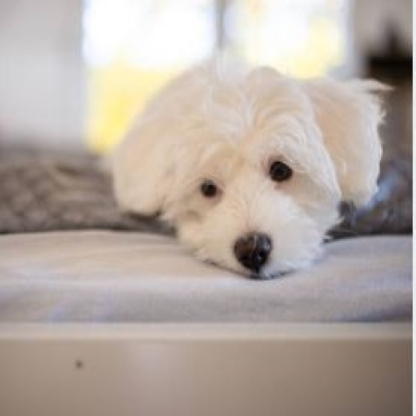maltese: (108, 42, 391, 284)
